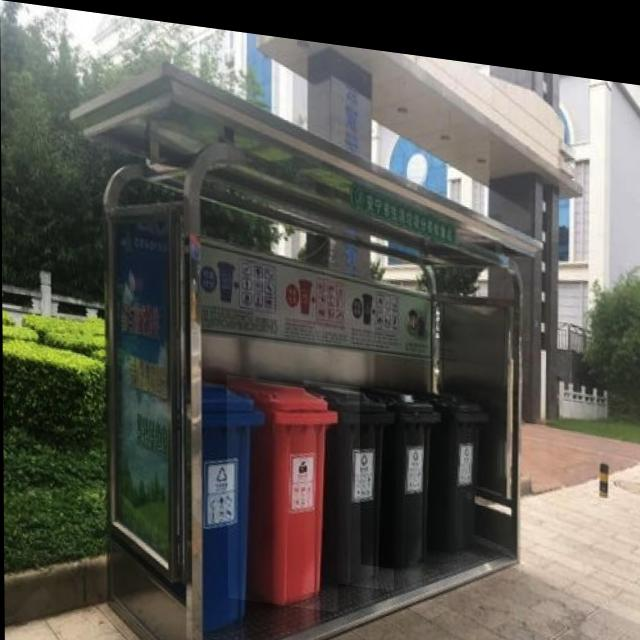garbage_bin: (226, 368, 337, 603), (303, 371, 393, 580), (199, 374, 263, 630), (359, 374, 442, 563), (422, 378, 489, 541)
